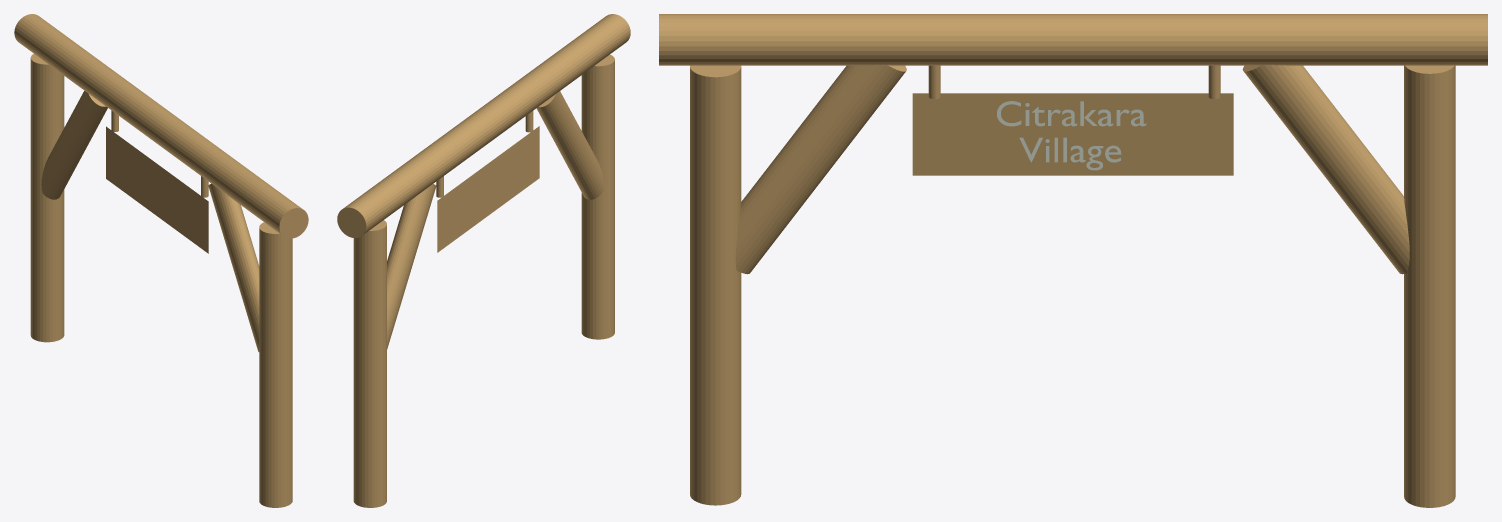
Rendered from gerbang_citrakara.fbx.
3 views of the same model, side by side, from view 1: azimuth 30°, elevation 25°; view 2: azimuth 150°, elevation 25°; view 3: azimuth 270°, elevation 25° (orthographic). The views are drawn at different scales.
Parts seen in each view (by area): view 1: Cylinder.002, Cylinder, Cylinder.001, Plane, Cylinder.003, Cylinder.004; view 2: Cylinder.002, Cylinder.001, Cylinder, Plane, Cylinder.003, Cylinder.004; view 3: Cylinder.002, Plane, Cylinder.001, Cylinder, Cylinder.003, Cylinder.004, Text.
Boxes of the visible parts, bbox=[...] form: Cylinder.002: bbox=[14, 14, 308, 238]; Cylinder: bbox=[259, 222, 292, 507]; Cylinder.001: bbox=[30, 54, 64, 342]; Plane: bbox=[106, 126, 208, 253]; Cylinder.003: bbox=[208, 183, 259, 351]; Cylinder.004: bbox=[41, 91, 107, 199]; Cylinder.002: bbox=[337, 14, 630, 237]; Cylinder.001: bbox=[353, 220, 386, 507]; Cylinder: bbox=[581, 54, 614, 339]; Plane: bbox=[437, 126, 539, 252]; Cylinder.003: bbox=[536, 91, 604, 199]; Cylinder.004: bbox=[387, 184, 436, 349]; Cylinder.002: bbox=[659, 14, 1487, 65]; Plane: bbox=[912, 93, 1233, 175]; Cylinder.001: bbox=[1404, 65, 1455, 507]; Cylinder: bbox=[690, 65, 741, 505]; Cylinder.003: bbox=[735, 65, 906, 274]; Cylinder.004: bbox=[1242, 65, 1409, 274]; Text: bbox=[997, 101, 1146, 170].
Bounding box in the file's own units: 81.42 × 819 × 1280.
